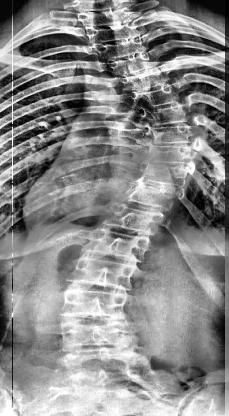Vertebrae: (58, 313, 136, 353), (80, 226, 154, 266), (65, 256, 138, 292), (57, 286, 131, 320), (104, 201, 164, 237), (131, 98, 191, 130), (136, 161, 194, 193), (114, 63, 172, 94), (125, 180, 181, 212), (104, 50, 160, 78), (126, 84, 180, 112), (92, 36, 150, 62), (140, 122, 194, 148), (144, 142, 196, 168)
